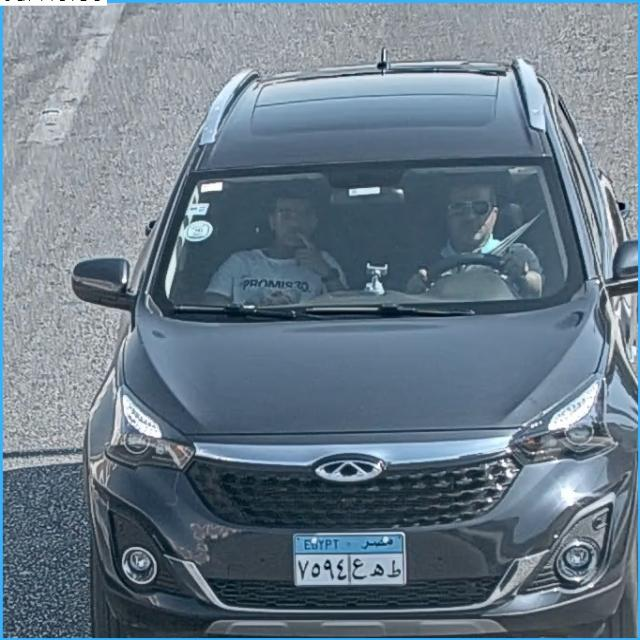windshield: (144, 159, 577, 315)
